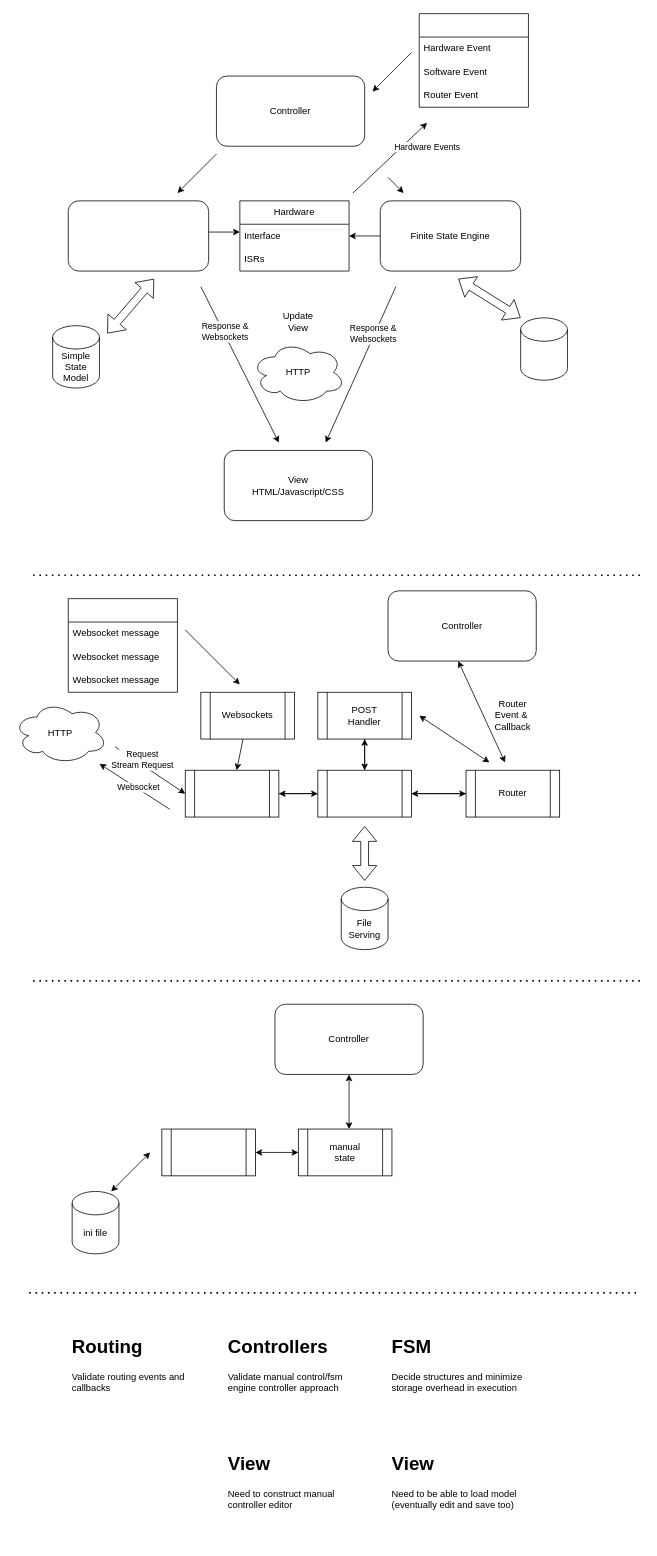
Image size: 657x1556. Some labels were removed from this diagram. The box of each missing label's shape, as (x1, y1, x2, y2) in pixels:
Custom Files Extension: (317, 769, 411, 817)
Event Queue: (418, 13, 528, 107)
Finite State Model: (520, 317, 567, 380)
HTTP Daemon: (184, 769, 279, 817)
Manual Controller: (67, 200, 209, 271)
minini: (161, 1128, 255, 1176)
Websocket Queue: (67, 598, 177, 692)
